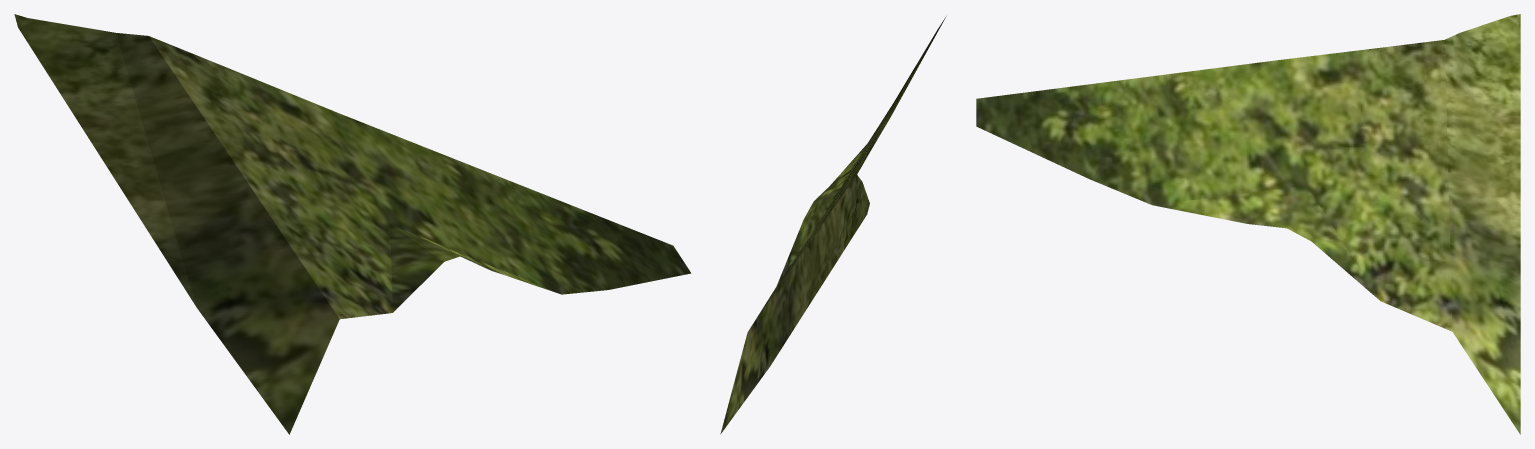
The picture shows the model from 3 angles, left to right: view 1: azimuth 30°, elevation 25°; view 2: azimuth 150°, elevation 25°; view 3: azimuth 270°, elevation 25°; orthographic projection. The views are drawn at different scales.
Bounding box in the file's own units: 1.16 × 1.98 × 2.95.
1 material, 1 textured.
